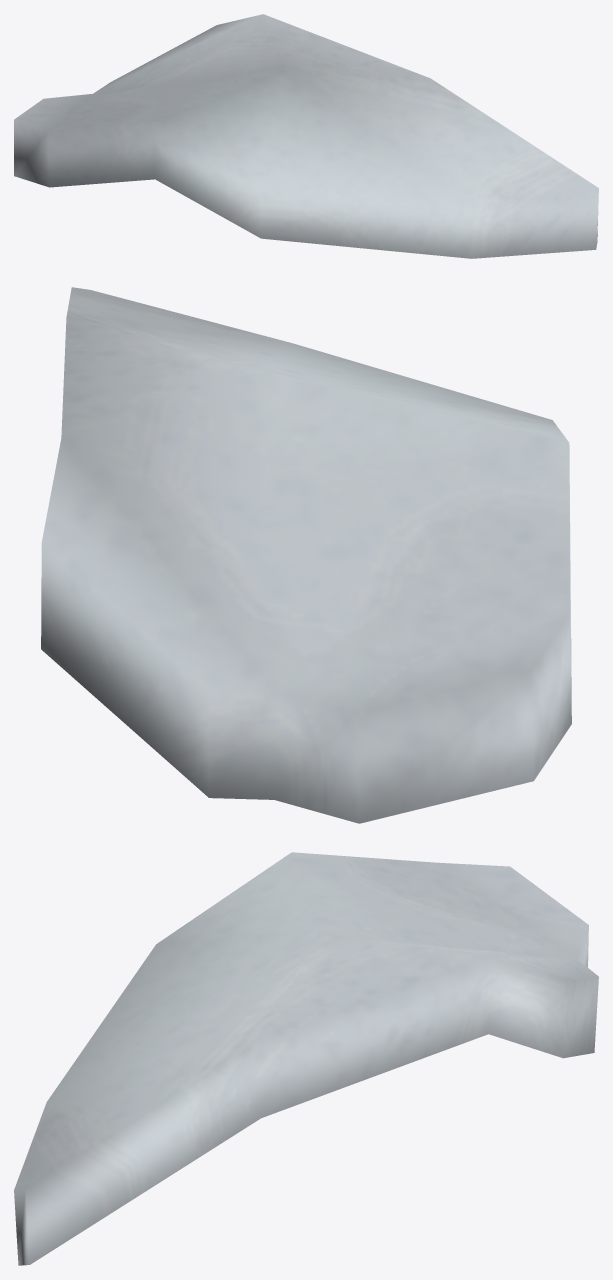
File: Rock_1_Snow.fbx
3 views of the same model, one above another, from view 1: azimuth 30°, elevation 25°; view 2: azimuth 150°, elevation 25°; view 3: azimuth 270°, elevation 25° (orthographic). The views are drawn at different scales.
Parts seen in each view (by area): view 1: Rock_1_Snow; view 2: Rock_1_Snow; view 3: Rock_1_Snow.
Part boxes in pixels (x1,y1,x2,y2): Rock_1_Snow: [14, 14, 598, 258]; Rock_1_Snow: [41, 287, 571, 823]; Rock_1_Snow: [14, 852, 598, 1265].
Size of the model in its own units: 206 by 71.54 by 188.
